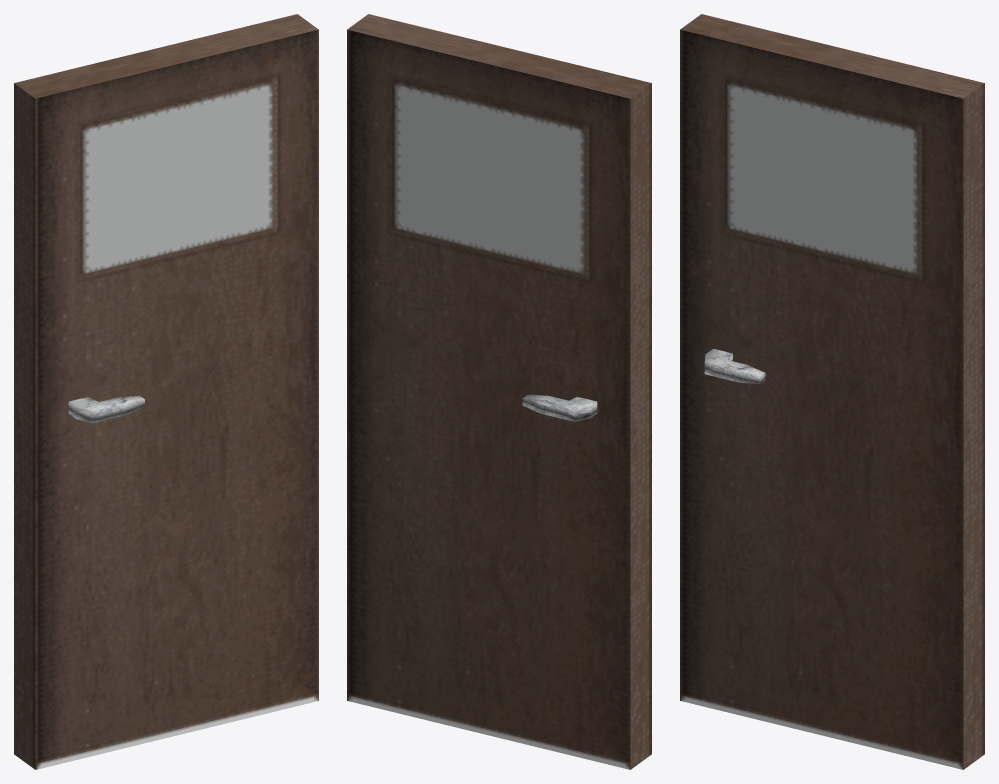
File: of_door.fbx
3 views of the same model, side by side, from view 1: azimuth 30°, elevation 25°; view 2: azimuth 150°, elevation 25°; view 3: azimuth 330°, elevation 25° (orthographic).
Parts seen in each view (by area): view 1: Cube.006, Cube.007; view 2: Cube.006, Cube.007; view 3: Cube.006, Cube.007.
Boxes of the visible parts, box(x1,y1,x2,y2) form: Cube.006: box(14, 14, 318, 769); Cube.007: box(68, 395, 144, 423); Cube.006: box(347, 14, 651, 769); Cube.007: box(522, 394, 597, 421); Cube.006: box(680, 14, 984, 769); Cube.007: box(704, 348, 765, 383).
Bounding box in the file's own units: 113 × 256 × 36.02.
